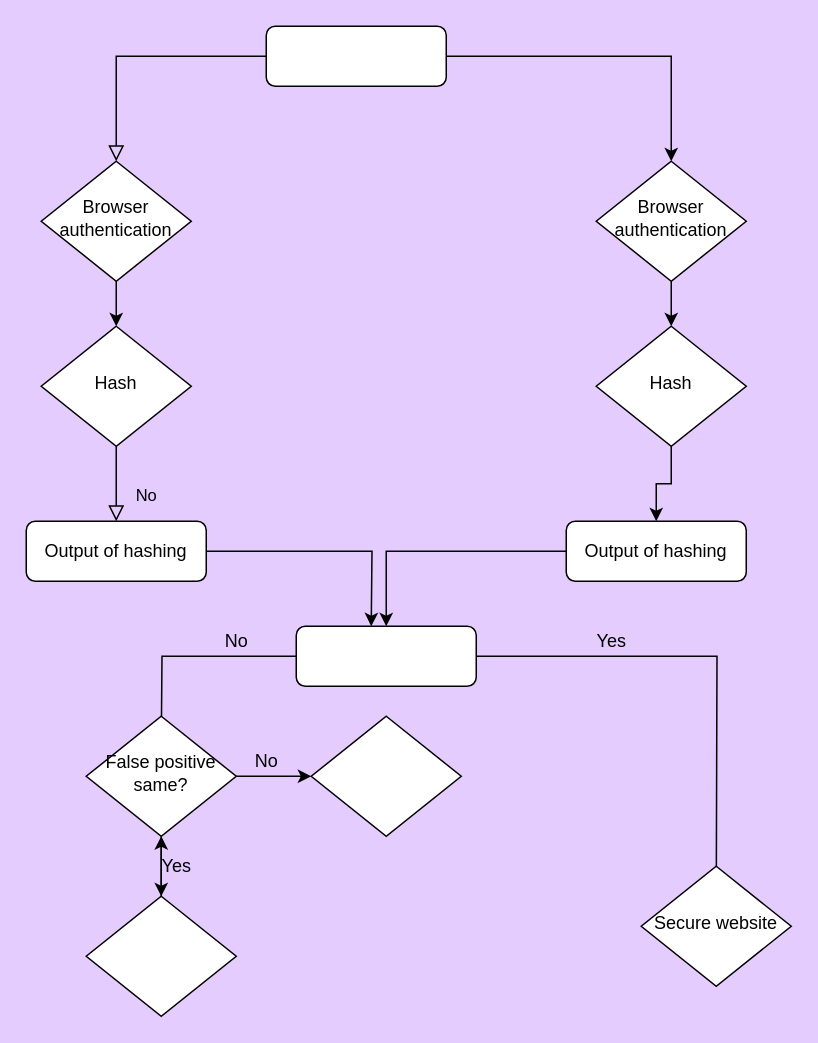
This 818x1043 diagram has some shape labels left out. The shapes that lost their labels are listed below. From the top down, each one's centre as x and y in pixels, then its label:
(355,55): Activation
(385,655): Hashed text equal
(385,775): Site not secure
(160,955): EV certification
